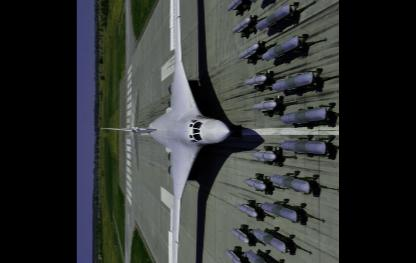Su34: (100, 0, 242, 262)
